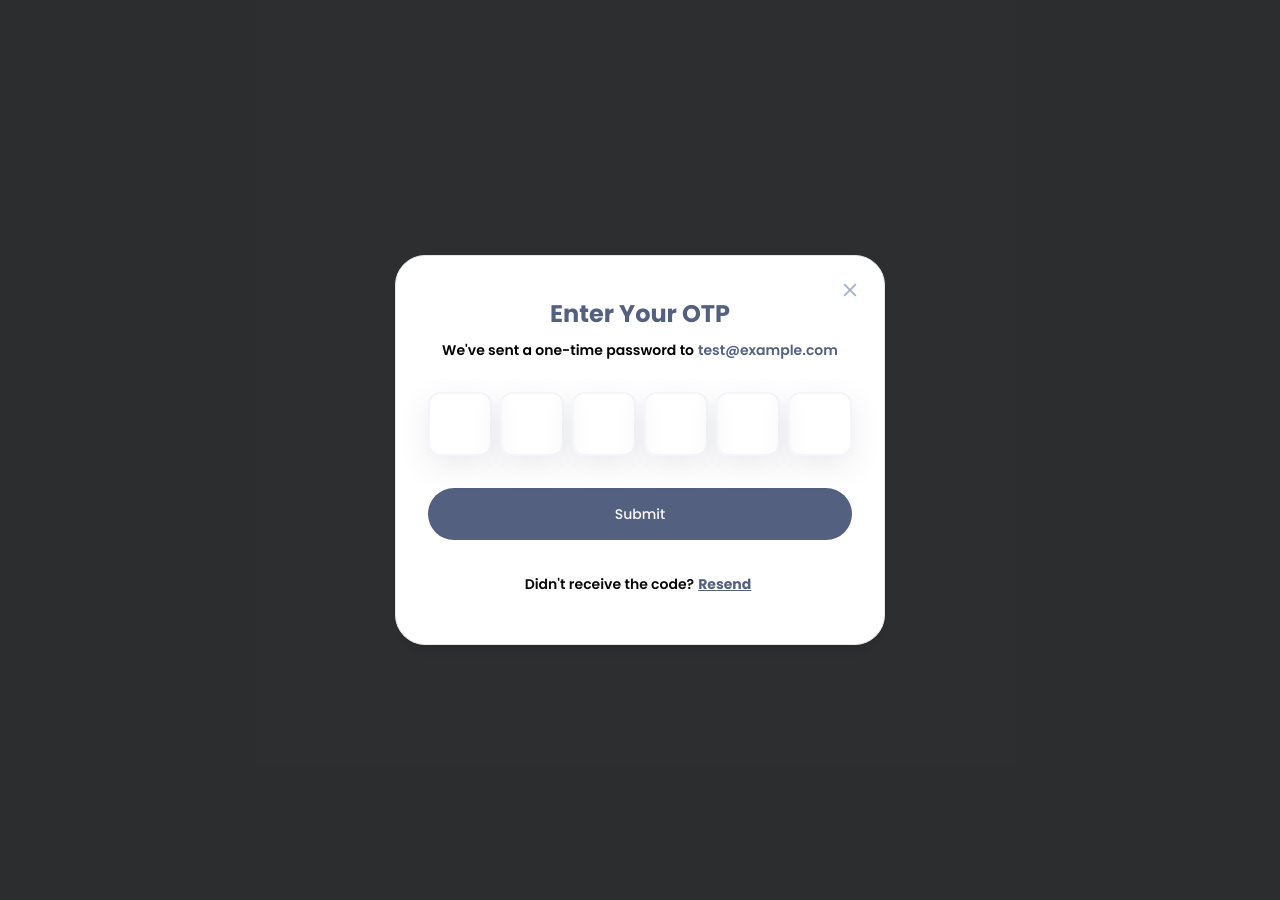
it: OTPModal component › handles resend OTP
Click the button "Resend": (725, 584) [694, 564, 755, 604]
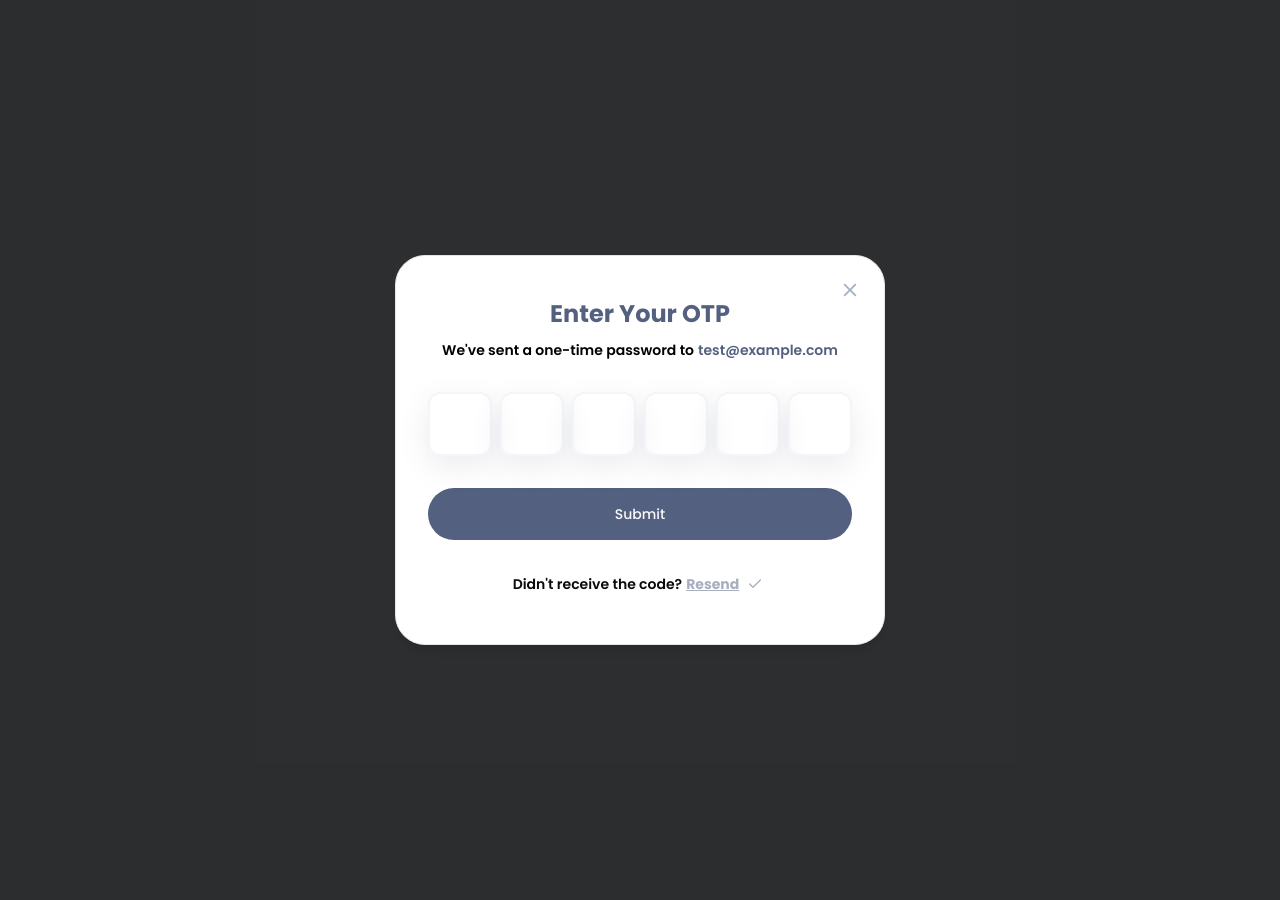
Expected: the button "Resend" is disabled, [682, 564, 767, 604]
